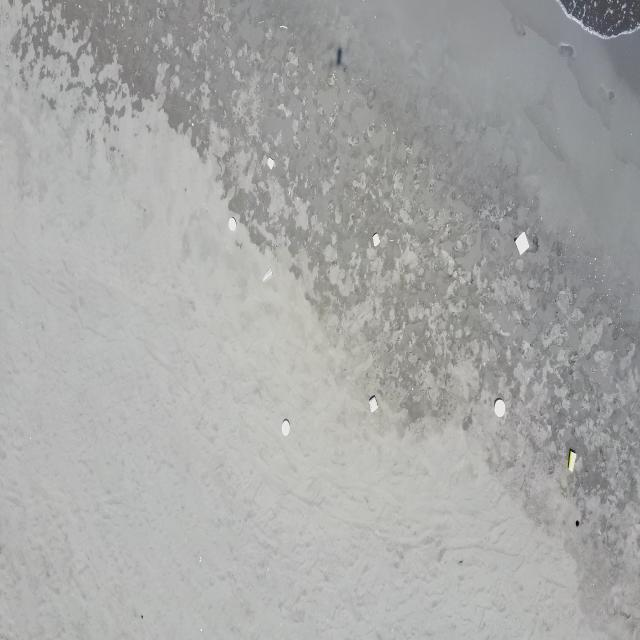take-away-containers: (514, 231, 530, 255), (494, 398, 506, 418), (281, 420, 291, 436), (369, 397, 379, 412), (228, 217, 236, 231), (372, 233, 380, 247), (267, 156, 274, 170)
takeaway-cup: (568, 450, 577, 472), (262, 266, 274, 282)
